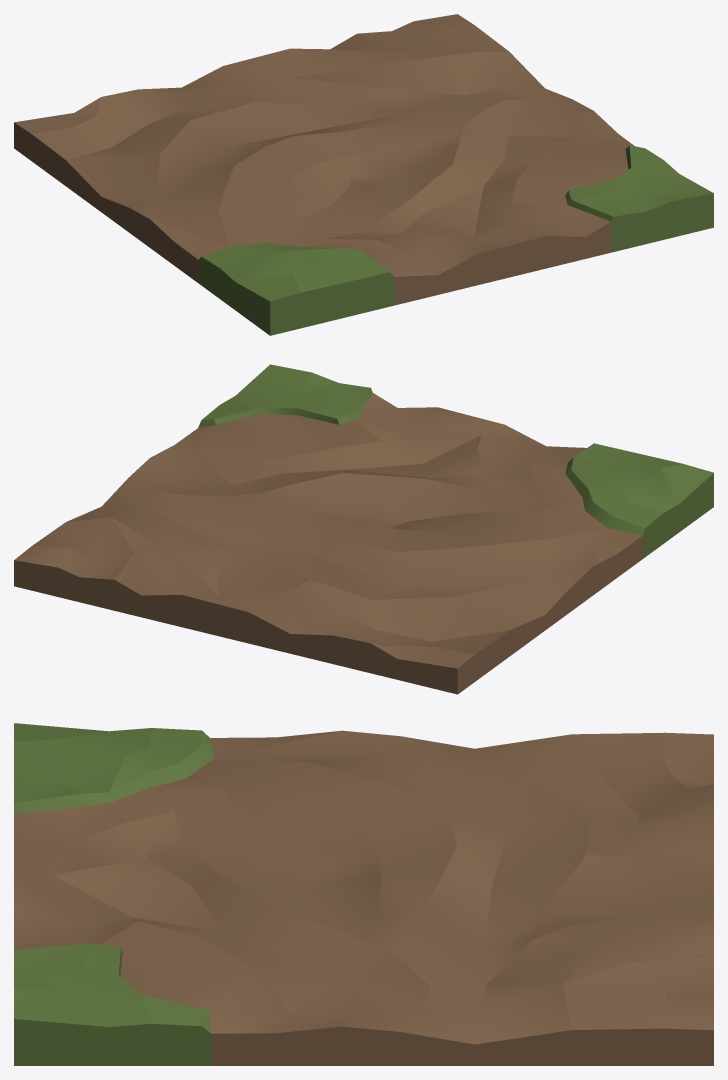
File: Ground_Path_Entrance_B.glb
3 views of the same model, one above another, from view 1: azimuth 30°, elevation 25°; view 2: azimuth 150°, elevation 25°; view 3: azimuth 270°, elevation 25° (orthographic). The views are drawn at different scales.
Visible parts, largest first — view 1: Ground_Path_Entrance_B; view 2: Ground_Path_Entrance_B; view 3: Ground_Path_Entrance_B.
Part boxes in pixels (box(x1,y1,x2,y2)): Ground_Path_Entrance_B: box(14, 14, 713, 335); Ground_Path_Entrance_B: box(14, 364, 713, 694); Ground_Path_Entrance_B: box(14, 723, 713, 1065).
Size of the model in its own units: 1.47 by 0.1291 by 1.47.
